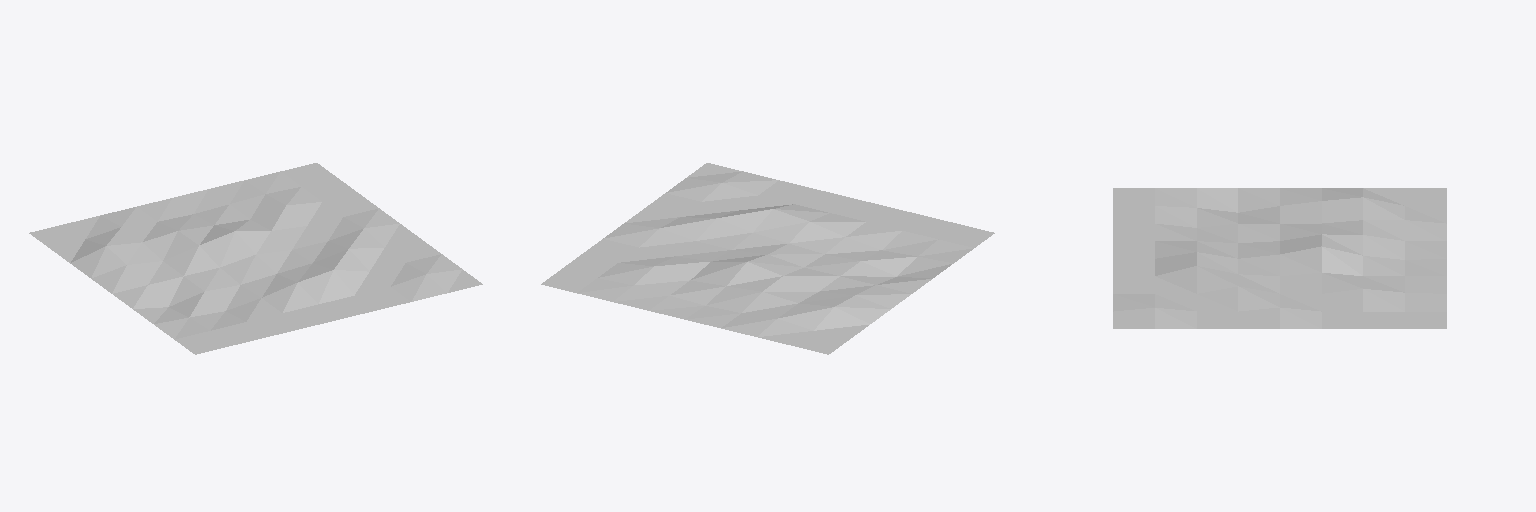
Rendered from terrain.obj.
The picture shows the model from 3 angles: view 1: azimuth 30°, elevation 25°; view 2: azimuth 150°, elevation 25°; view 3: azimuth 270°, elevation 25°; orthographic projection.
Parts seen in each view (by area): view 1: Plane; view 2: Plane; view 3: Plane.
Boxes of the visible parts, x1,y1,x2,y2 form: Plane: [29, 163, 482, 354]; Plane: [541, 163, 994, 354]; Plane: [1113, 188, 1446, 328].
Bounding box in the file's own units: 100 × 6.33 × 100.